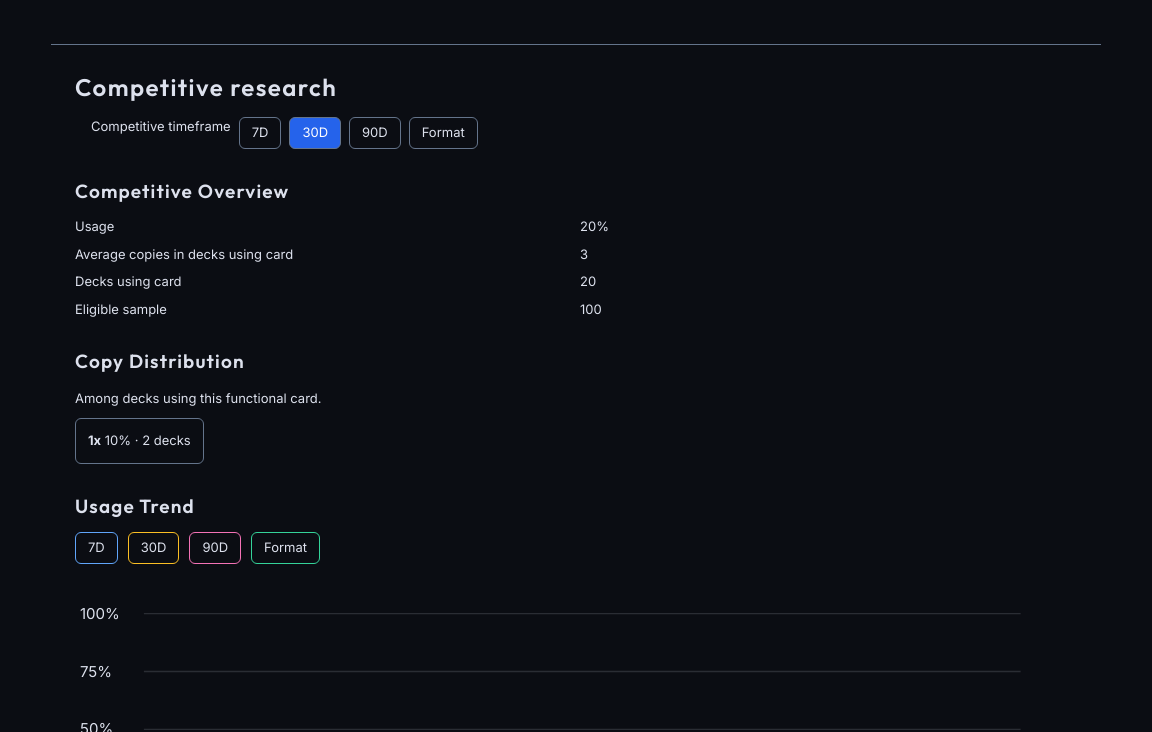
Test: dashboard is continuous, threshold state and all trend series persist across window switch
The width and height of the screenshot is (1152, 732).
Click the button "7D" next to "Competitive timeframe" at (260, 133), box [239, 117, 282, 148]
(page scrolled)
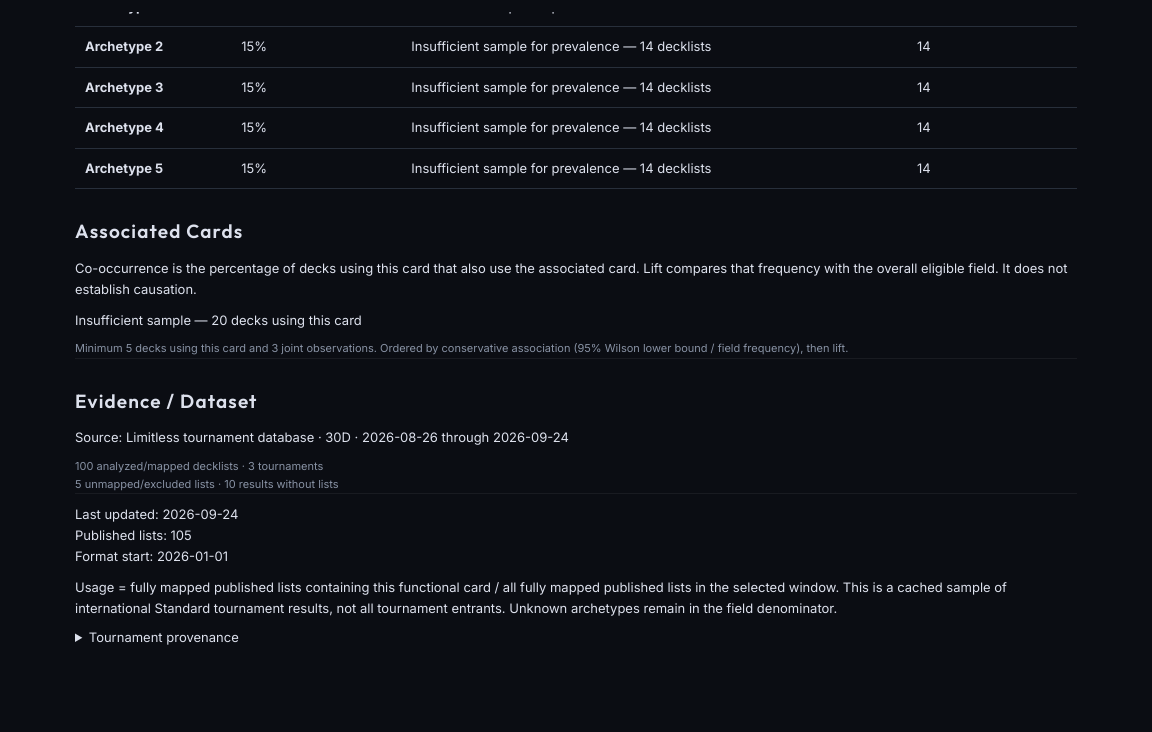
Check: the heading "Evidence / Dataset" is shown, box [75, 389, 258, 413]
